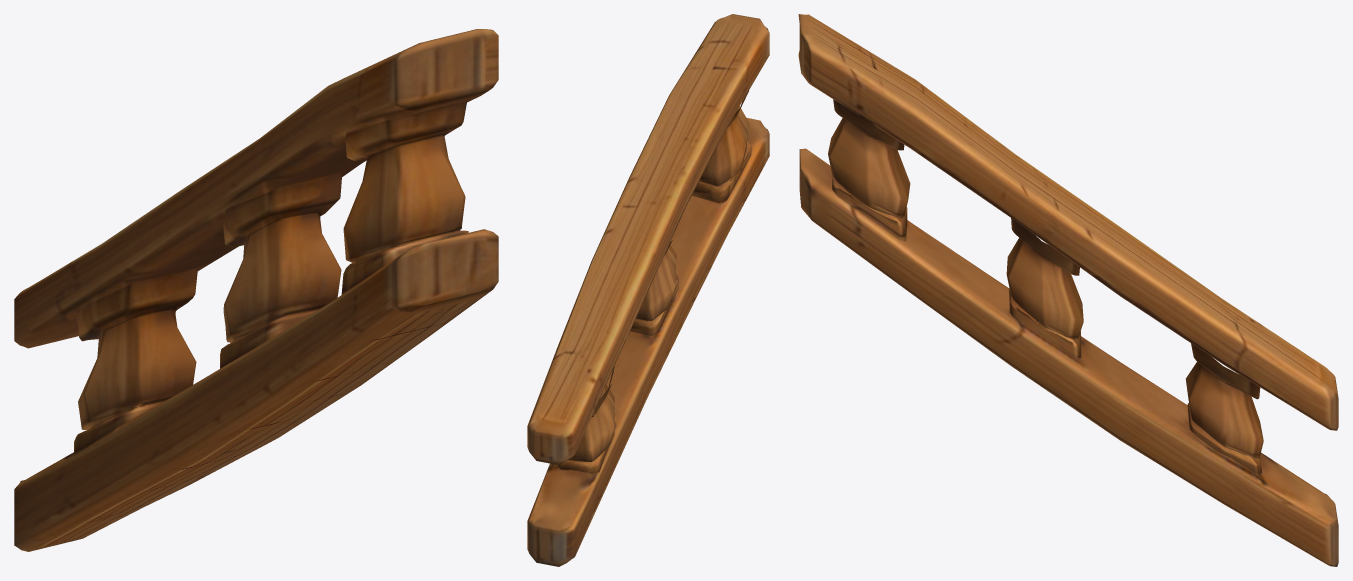
File: rail_stair.glb
3 renders of one model, left to right at view 1: azimuth 30°, elevation 25°; view 2: azimuth 150°, elevation 25°; view 3: azimuth 270°, elevation 25°, orthographic. The views are drawn at different scales.
Visible parts, largest first — view 1: rail; view 2: rail; view 3: rail.
Part boxes in pixels (bbox=[...]): rail: bbox=[14, 29, 498, 551]; rail: bbox=[527, 14, 769, 566]; rail: bbox=[798, 14, 1338, 566].
Size of the model in its own units: 0.5799 by 3.58 by 3.25.
1 material, 1 textured.
